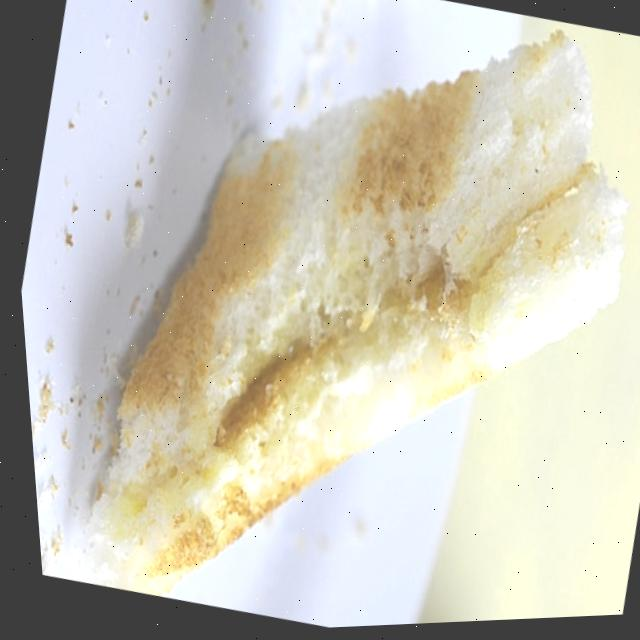面包点心: (23, 0, 640, 639)
